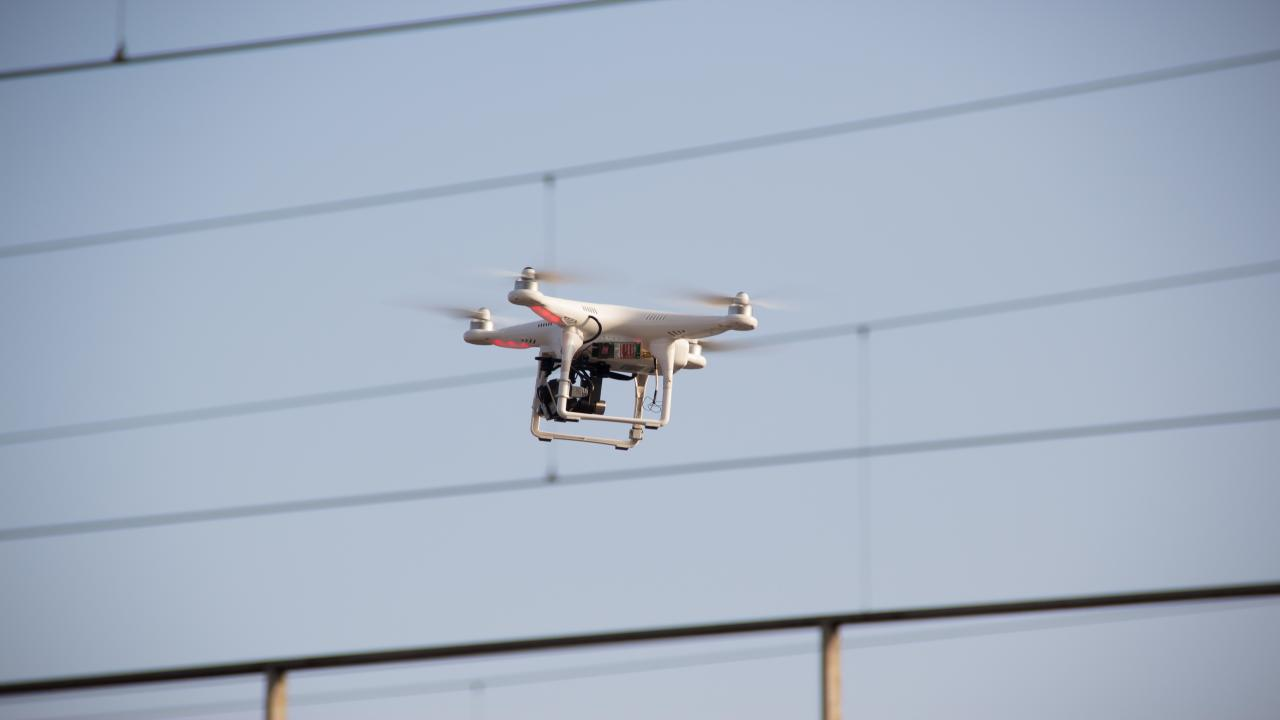Drone: (387, 246, 821, 463)
